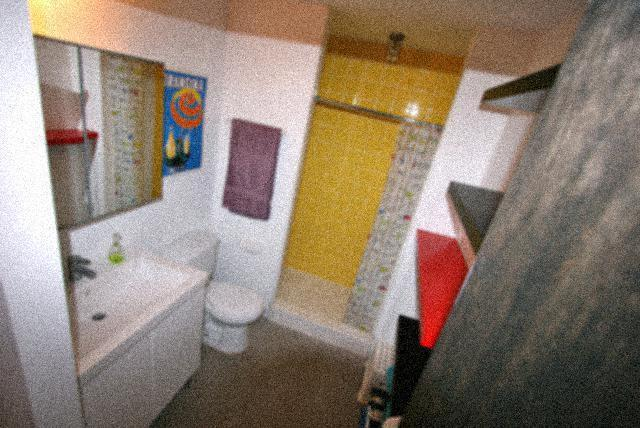Ducha: (220, 91, 489, 355)
Lavamanos: (38, 253, 198, 374)
Sanitario: (153, 223, 265, 359)
